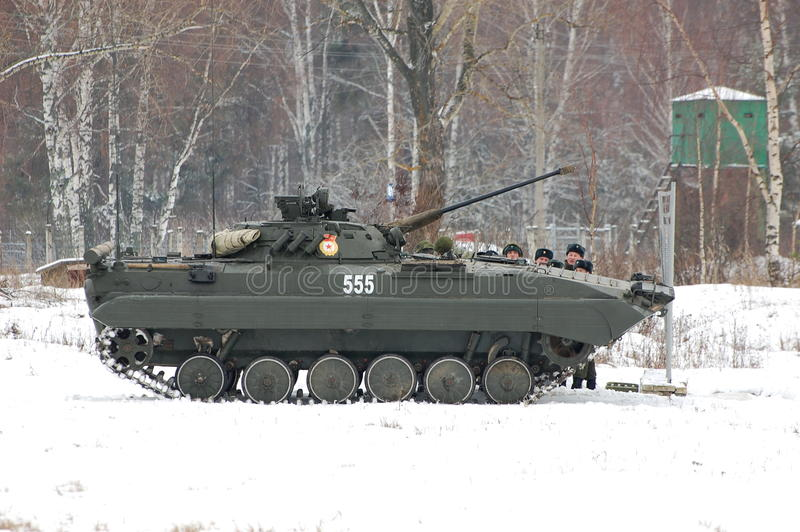bmp1: (82, 189, 652, 405)
